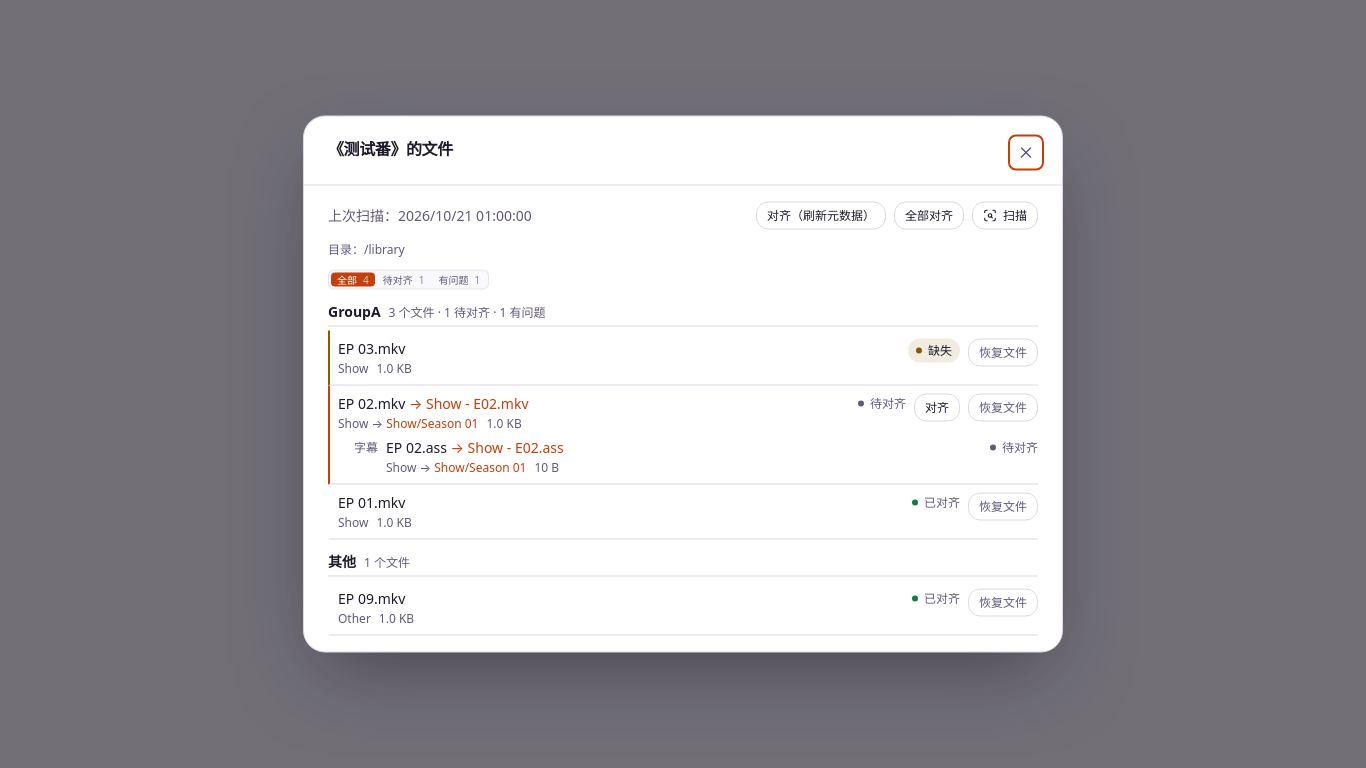
it: AnimeFilesDialog › groups files by subtitle group with alignment as the focus
The image size is (1366, 768).
Expected: the text "EP 09.mkv" is shown, x1=338 y1=588 x2=405 y2=608
Expected: the text "EP 01.mkv" is shown, x1=338 y1=492 x2=405 y2=512
// The filter only changes the display.
Click the radio button labelled "有问题 1" at point(459, 280), box x1=438 y1=272 x2=480 y2=286
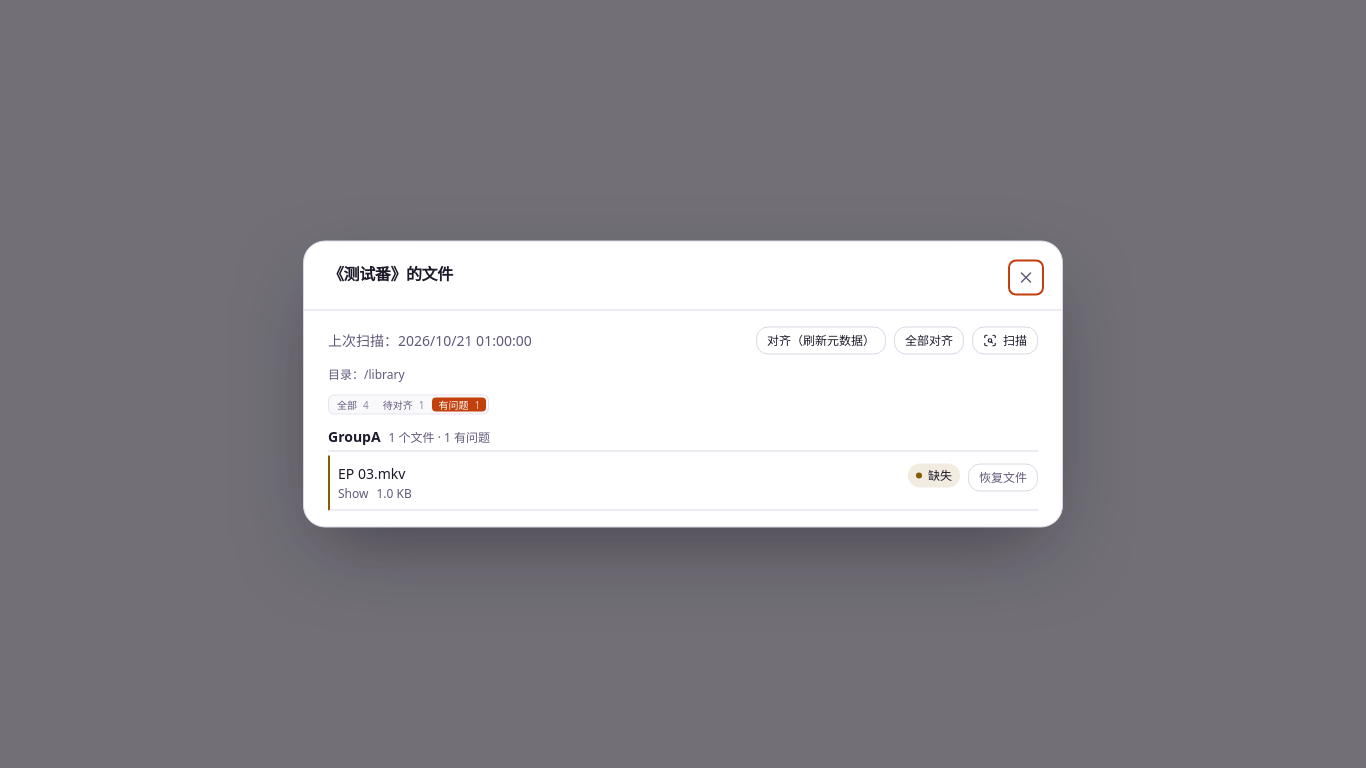
Expected: the text "EP 03.mkv" is shown, x1=338 y1=464 x2=405 y2=482
Expected: the text "EP 01.mkv" is gone
Click the radio button labelled "待对齐 1" at point(404, 404), box x1=383 y1=398 x2=424 y2=412
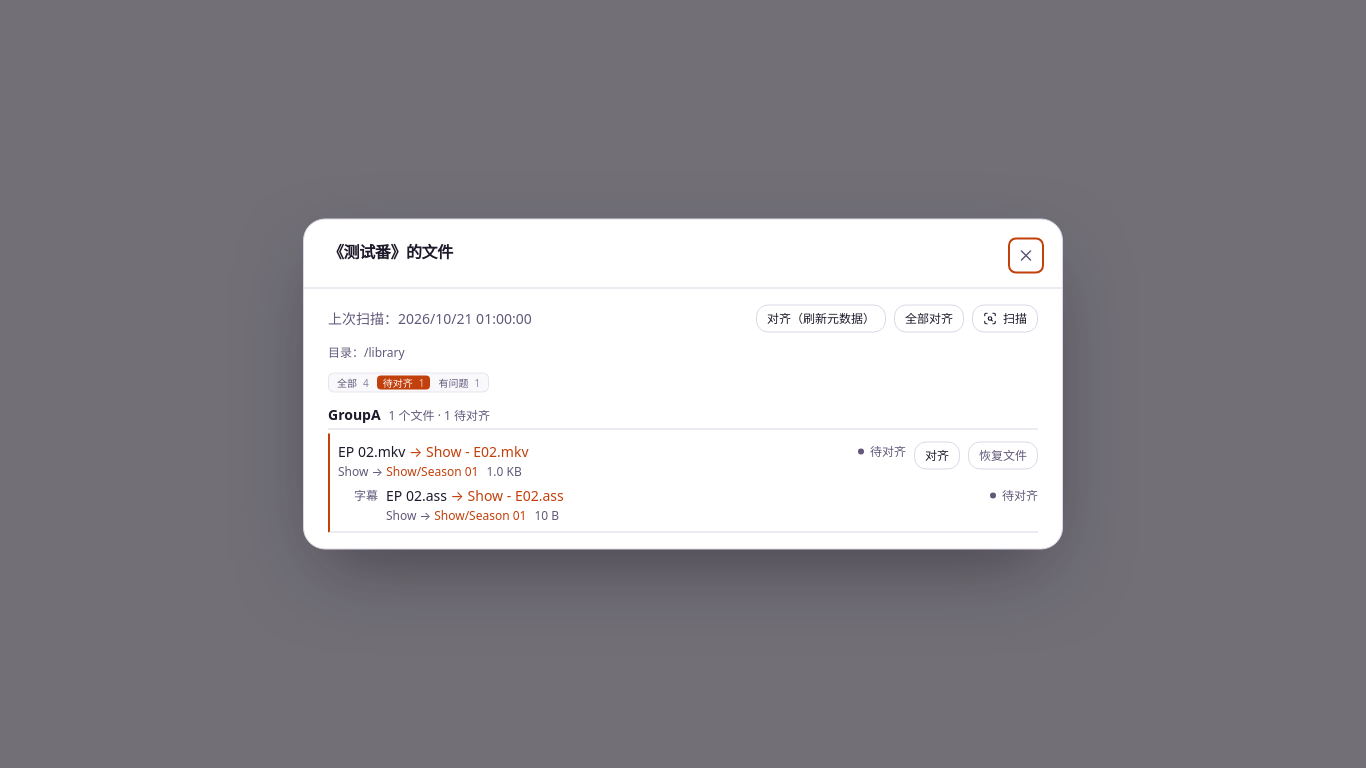
Expected: the text "EP 03.mkv" is gone
Expected: the text "→ Show - E02.mkv" is shown, x1=405 y1=442 x2=528 y2=460
